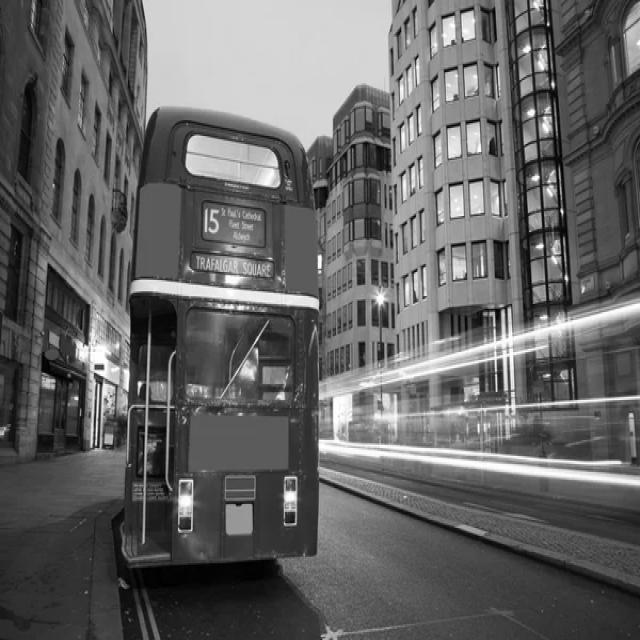Bus: (121, 107, 316, 568)
